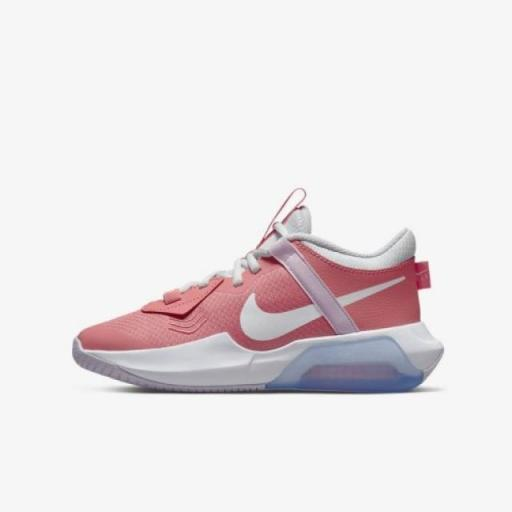Nike: (237, 271, 410, 345)
